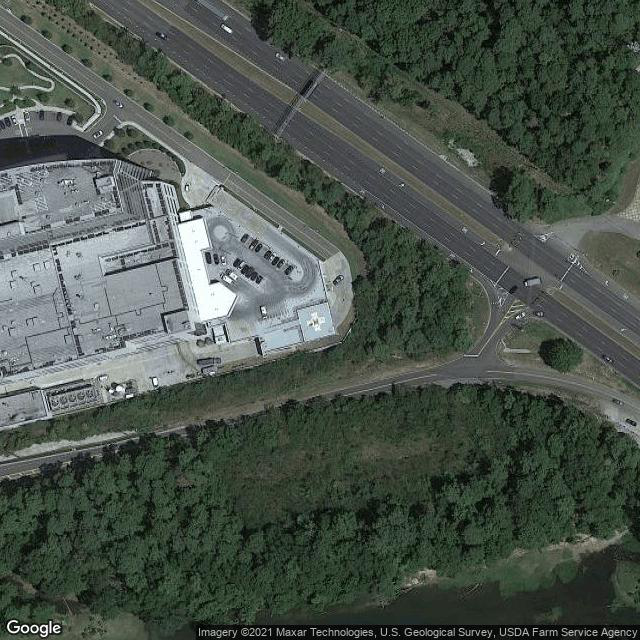Helipad: (292, 301, 337, 341)
